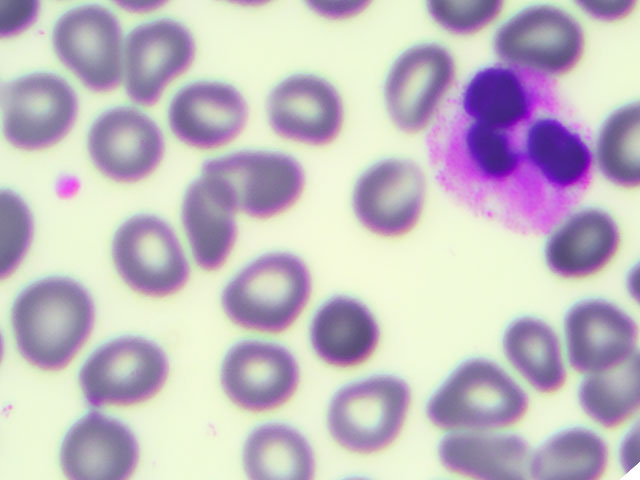Platelets: (57, 179, 80, 199)
RBC: (330, 374, 407, 450), (440, 362, 519, 434), (202, 155, 298, 214), (8, 287, 75, 370), (354, 153, 422, 233), (57, 14, 127, 89), (226, 261, 304, 328), (110, 220, 180, 294), (562, 300, 635, 367), (573, 352, 640, 420), (438, 425, 520, 480), (506, 6, 577, 69), (502, 319, 566, 388), (81, 346, 159, 402), (272, 80, 338, 146), (67, 415, 134, 480), (172, 86, 248, 143), (1, 86, 70, 148), (127, 24, 186, 95), (228, 348, 297, 407), (394, 43, 442, 126), (186, 185, 235, 265), (316, 303, 377, 367), (553, 213, 615, 274), (95, 116, 160, 172), (537, 427, 605, 478), (244, 427, 309, 480), (604, 104, 640, 187), (1, 187, 30, 280), (430, 1, 500, 27)
WBC: (445, 83, 592, 226)
